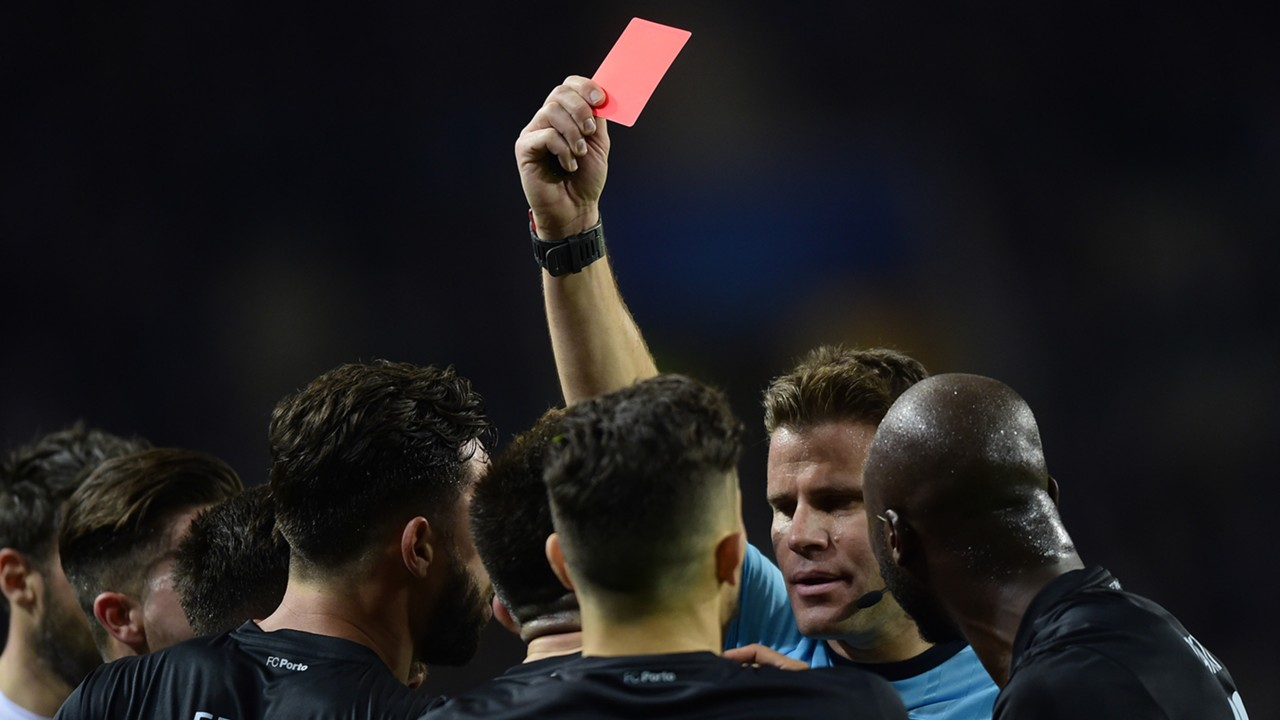red_card: (494, 7, 718, 238)
